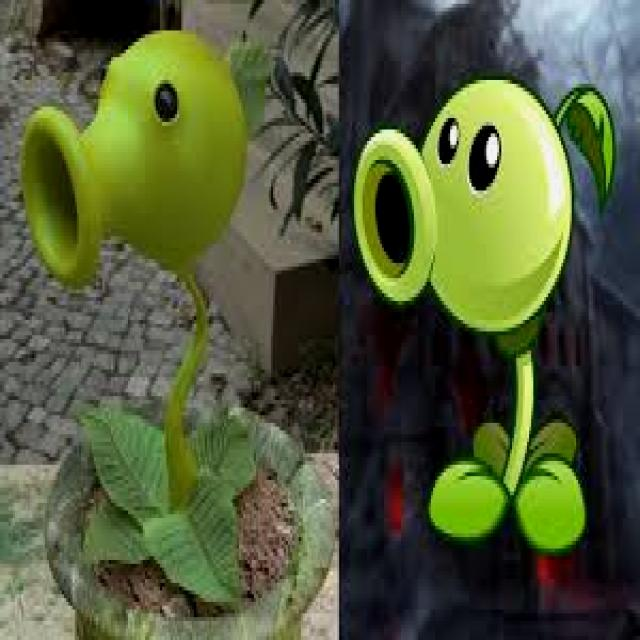wet: (138, 498, 238, 606)
